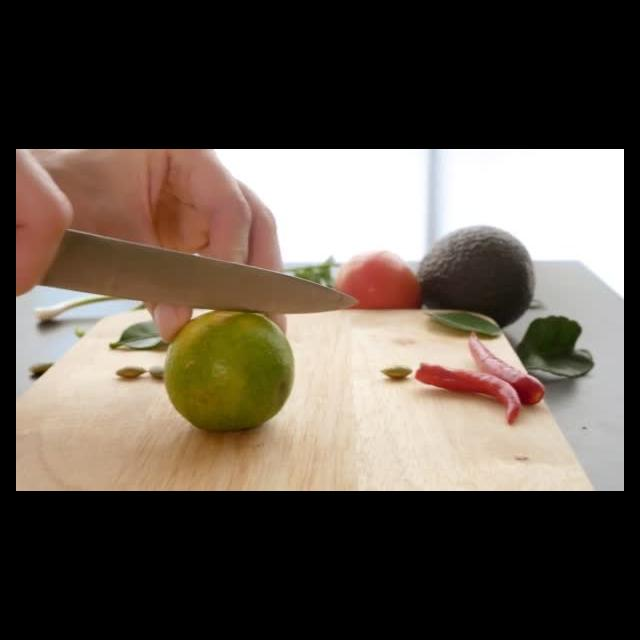lime: (160, 299, 301, 442)
